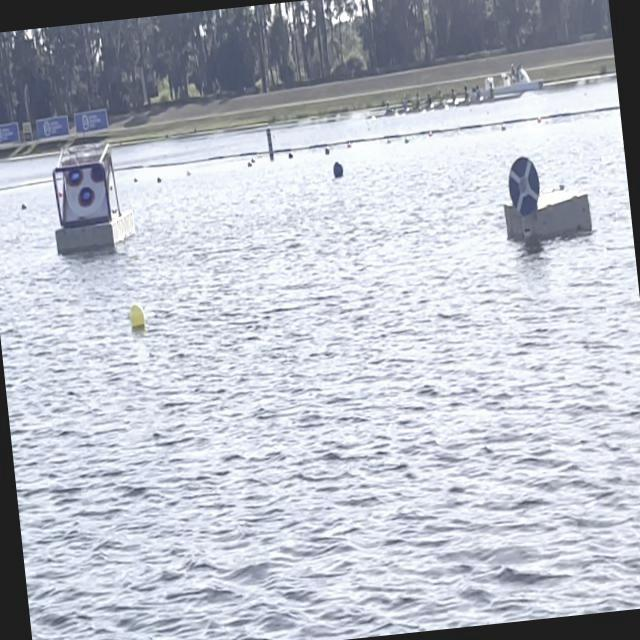buoy: (126, 301, 148, 333)
